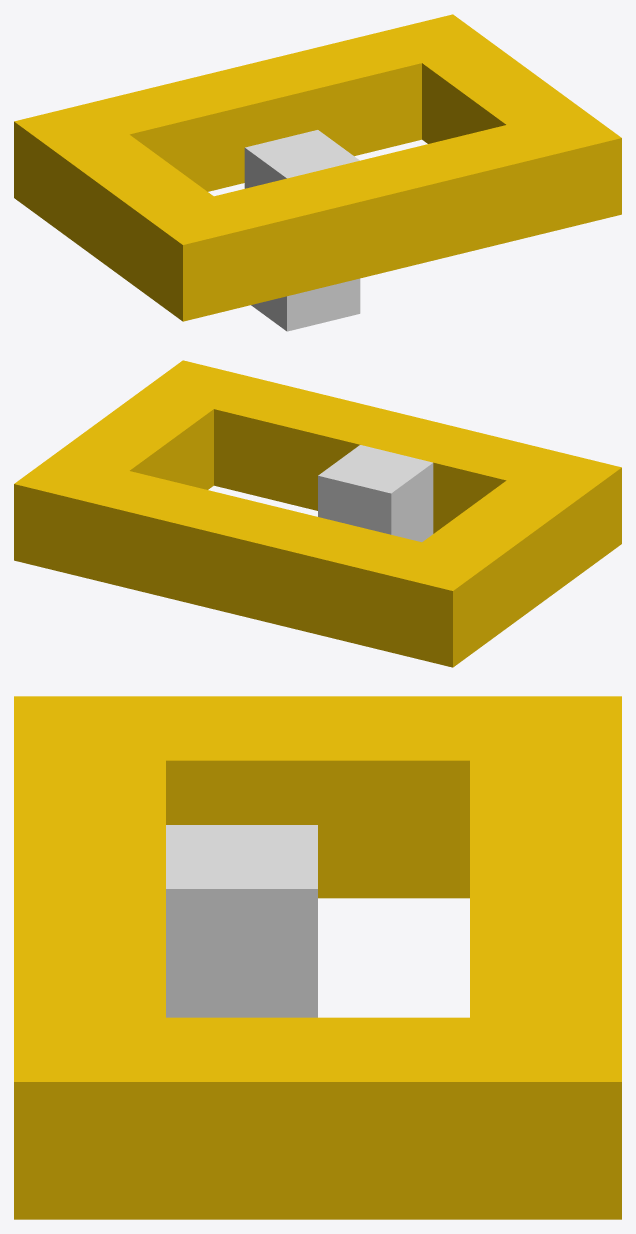
Rendered from obj_halo.fbx.
3 views of the same model, one above another, from view 1: azimuth 30°, elevation 25°; view 2: azimuth 150°, elevation 25°; view 3: azimuth 270°, elevation 25° (orthographic). The views are drawn at different scales.
Parts seen in each view (by area): view 1: obj_halo; view 2: obj_halo; view 3: obj_halo.
Part boxes in pixels (x1,y1,x2,y2): obj_halo: (14,14,621,331); obj_halo: (14,360,621,667); obj_halo: (14,696,621,1219).
Bounding box in the file's own units: 0.6 × 0.4 × 0.2.
1 material, 1 textured.
